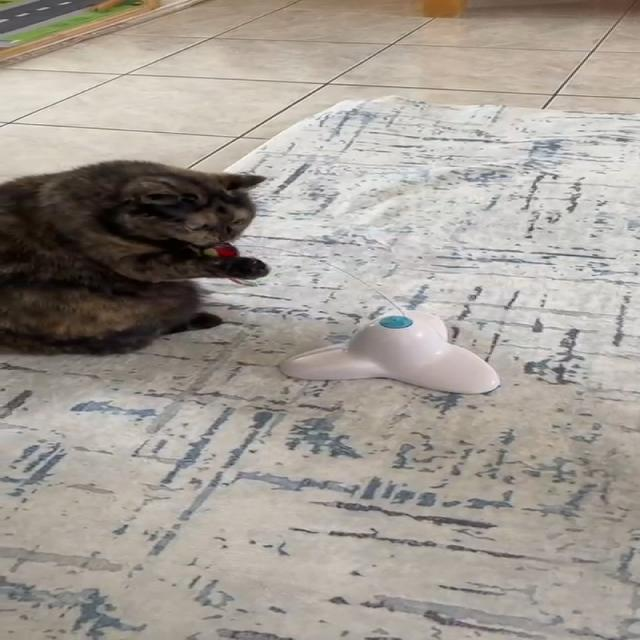authorized: (0, 158, 269, 355)
